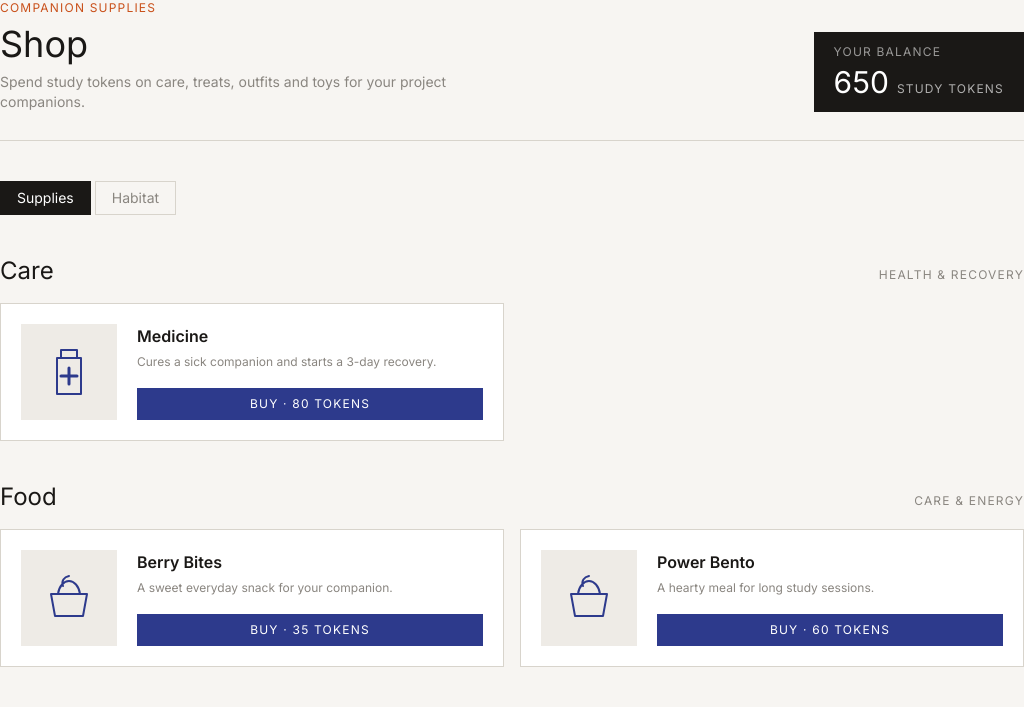
it: Shop tabs › buys decor
What coordinates should you click on to do the following:
click the tab "Habitat"
I would click on:
 (135, 198)
Its box is x1=95 y1=181 x2=176 y2=215.
(page scrolled)
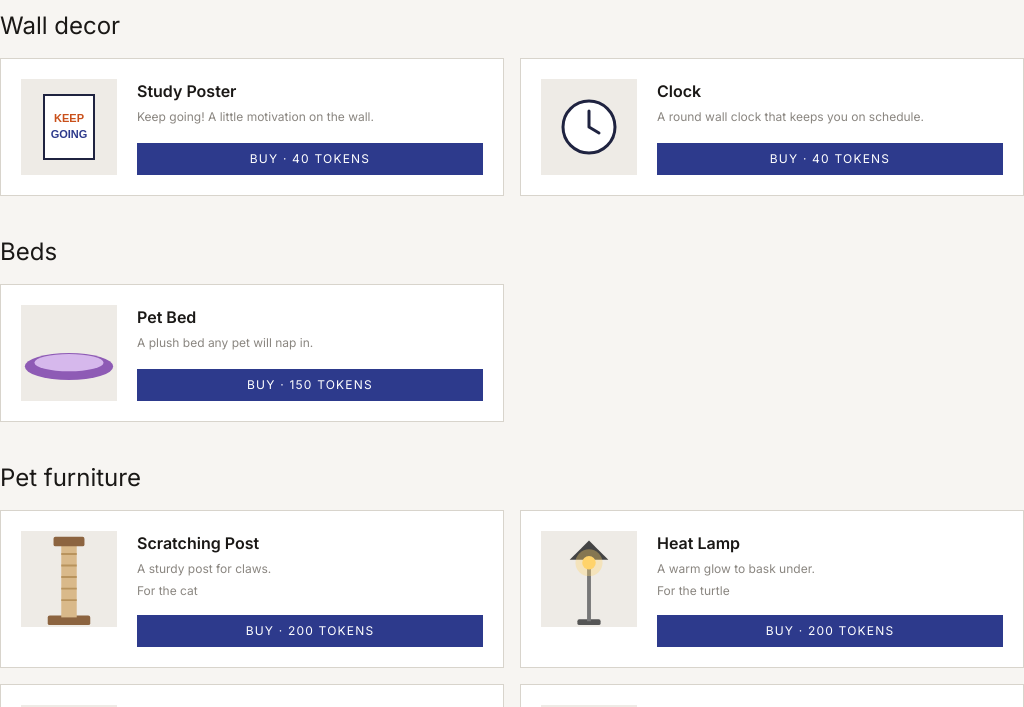
What coordinates should you click on to do the following:
click the button "Buy · 150 tokens"
I would click on:
 (310, 384)
Its box is x1=137 y1=368 x2=483 y2=400.
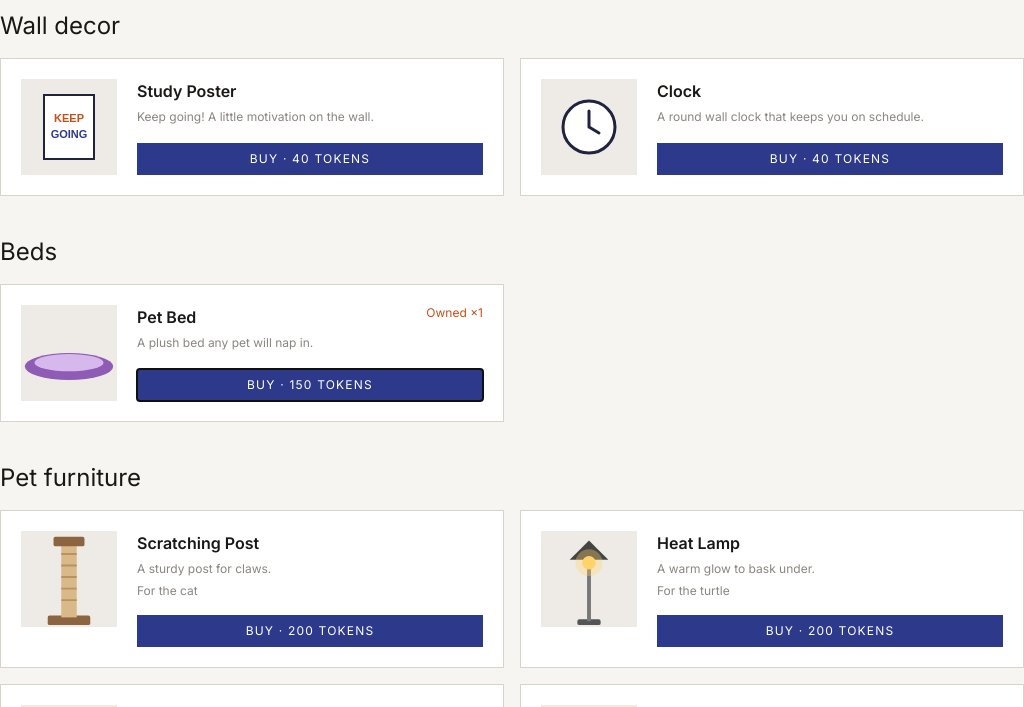
Now the text "Owned ×1" is shown, box x1=426 y1=305 x2=483 y2=321
